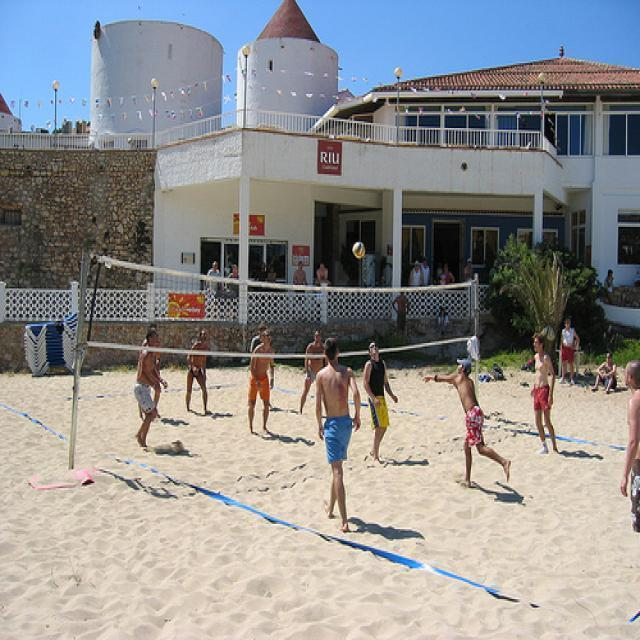volleyball: (352, 242, 366, 258)
